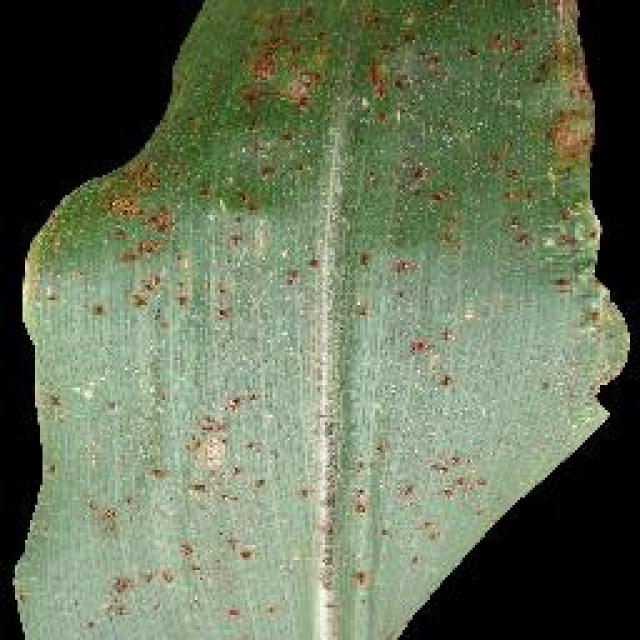Corn Common Rust: (156, 41, 593, 640)
